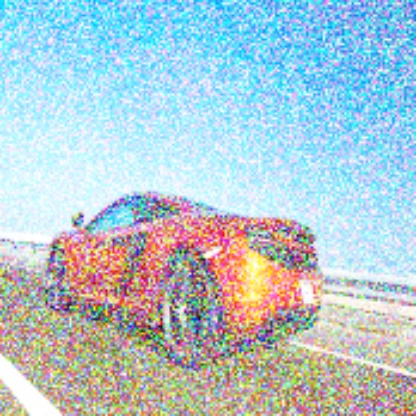Vehicle: (45, 191, 325, 372)
